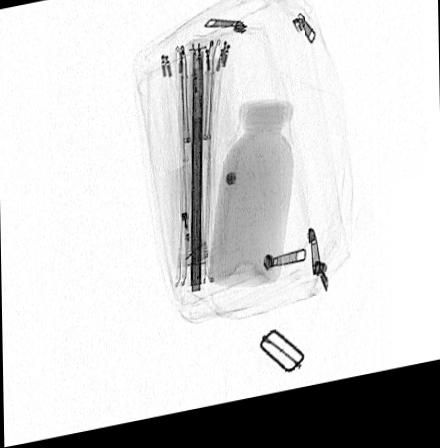Lighter: (184, 178, 237, 202)
